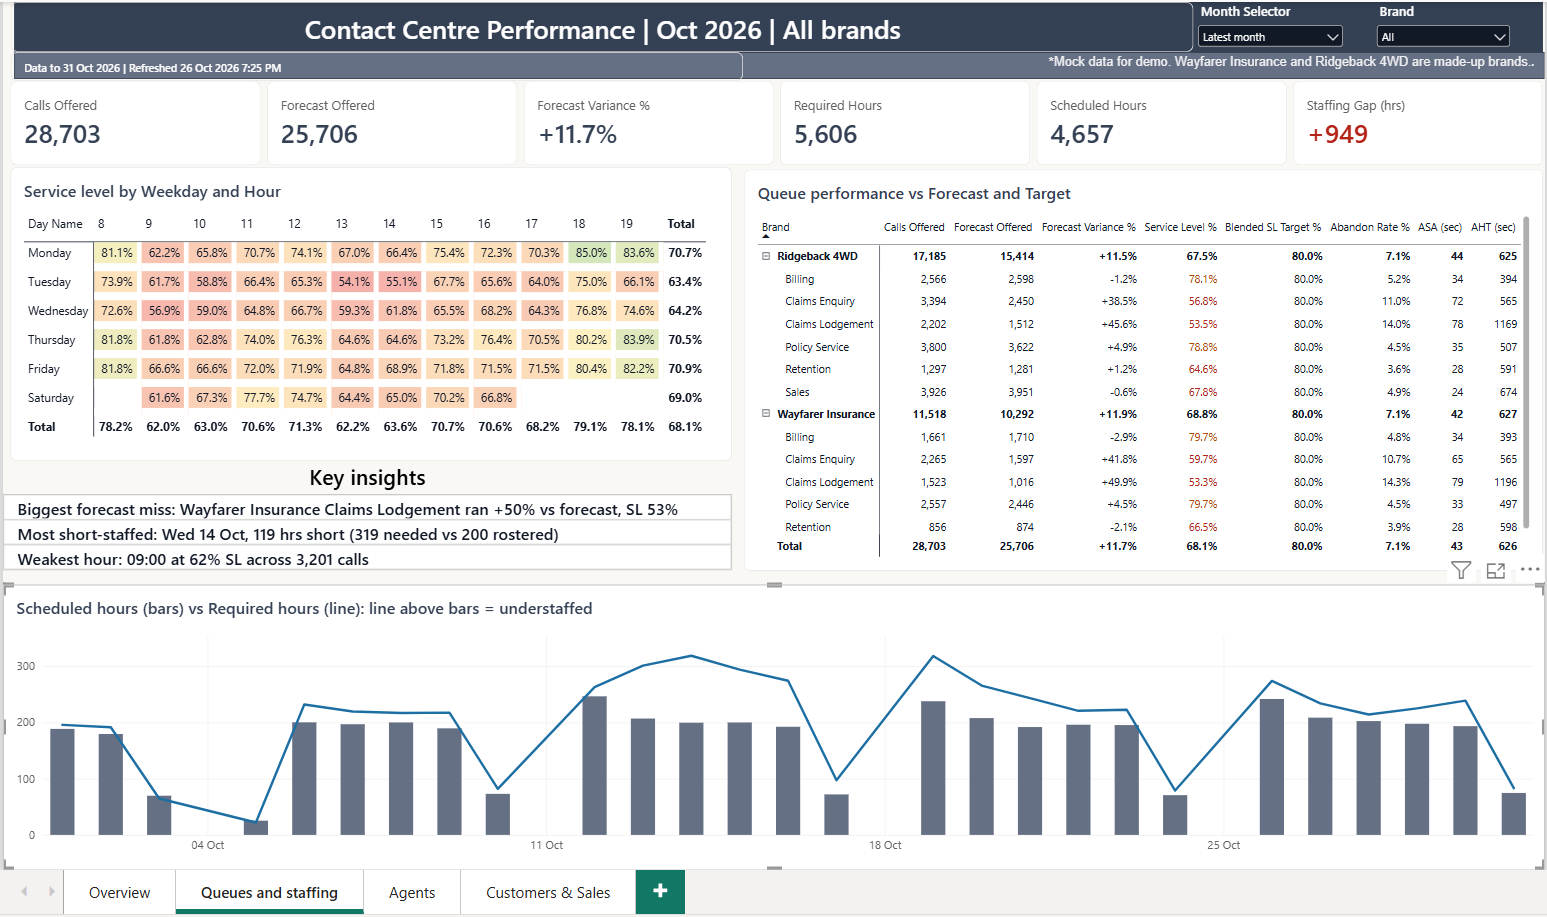

The page's visual inventory and layout, read from the dashboard file:
{"tool":"powerbi","page":{"name":"Queues and staffing","canvas":[1920,1080],"ordinal":1},"visuals":[{"type":"shape","title":"Accent Bg","box":[13.4,62.5,1904.4,33.5],"z":0},{"type":"shape","title":"Header Bg","box":[13.4,0,1902.1,62.5],"z":1000},{"type":"slicer","fields":{"Values":["Date.Month Selector"]},"box":[1481,0,190,62.7],"z":2000},{"type":"slicer","fields":{"Values":["Queue.Brand"]},"box":[1704.2,0,175.2,62.7],"z":3000},{"type":"cardVisual","fields":{"Data":["Calls.Report Title"]},"box":[9.2,0,1471.8,62.7],"z":4000},{"type":"cardVisual","fields":{"Data":["Calls.Data As At"]},"box":[10.1,62.3,911.1,36.2],"z":5000},{"type":"pivotTable","title":"Queue performance vs Forecast and Target","fields":{"Rows":["Queue.Brand","Queue.Queue"],"Values":["Calls.Calls Offered","Forecast.Forecast Offered","Forecast.Forecast Variance %","Calls.Service Level %","Calls.Blended SL Target %","Calls.Abandon Rate %","Calls.ASA (sec)","Calls.AHT (sec)"]},"box":[921.9,207.6,994.3,499],"z":6000},{"type":"pivotTable","title":"Service level by Weekday and Hour","fields":{"Columns":["Calls.hour_of_day"],"Rows":["Date.Day Name"],"Values":["Calls.Service Level %"]},"box":[9.5,205.7,897.1,365.7],"z":7000},{"type":"lineClusteredColumnComboChart","title":"Scheduled hours (bars) vs Required hours (line): line above bars = understaffed","fields":{"Category":["Date.Date"],"Y":["Forecast.Scheduled Hours"],"Y2":["Forecast.Required Hours"]},"box":[0,723.8,1920,356.2],"z":8000},{"type":"cardVisual","fields":{"Data":["Calls.Calls Offered","Forecast.Forecast Offered","Forecast.Forecast Variance %","Forecast.Required Hours","Forecast.Scheduled Hours","Forecast.Staffing Gap (hrs)"]},"box":[9.2,97.8,1907.1,105.1],"z":9000},{"type":"cardVisual","title":"Key insights","fields":{"Data":["Calls.Biggest Forecast Miss","Calls.Largest Staffing Gap Day","Calls.Weakest Hour"]},"box":[0,571.4,906.7,135.2],"z":10000},{"type":"textbox","box":[961.3,62.3,943.2,34.2],"z":10001}]}

Visuals, with their boxes on the page's 1920x1080 design canvas (x1, y1, x2, y2). These are canvas units, not pixel positions in the 1547x917 screenshot, which may show the page scaled, cropped or inside an application window:
"Accent Bg" shape: <box>13,62,1918,96</box>
"Header Bg" shape: <box>13,0,1916,62</box>
slicer - Date.Month Selector: <box>1481,0,1671,63</box>
slicer - Queue.Brand: <box>1704,0,1879,63</box>
cardVisual - Calls.Report Title: <box>9,0,1481,63</box>
cardVisual - Calls.Data As At: <box>10,62,921,98</box>
"Queue performance vs Forecast and Target" pivotTable: <box>922,208,1916,707</box>
"Service level by Weekday and Hour" pivotTable: <box>10,206,907,571</box>
"Scheduled hours (bars) vs Required hours (line): line above bars = understaffed" lineClusteredColumnComboChart: <box>0,724,1920,1080</box>
cardVisual - Calls.Calls Offered x Forecast.Forecast Offered: <box>9,98,1916,203</box>
"Key insights" cardVisual: <box>0,571,907,707</box>
textbox: <box>961,62,1904,96</box>
